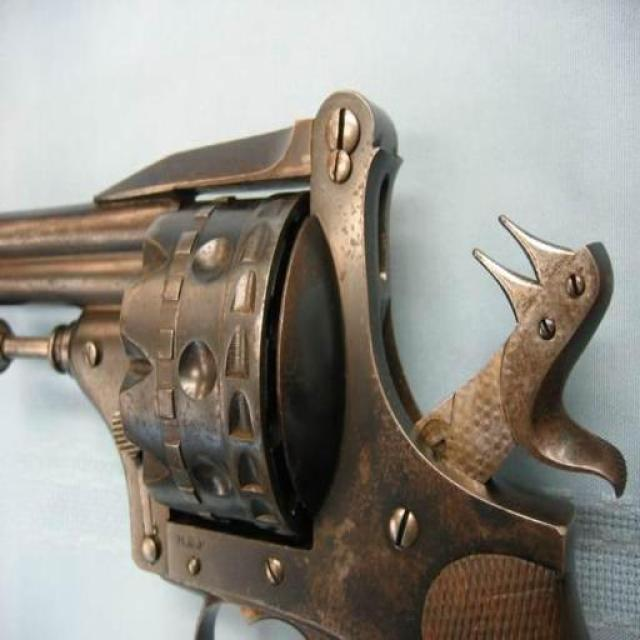pistol: (1, 89, 627, 640)
